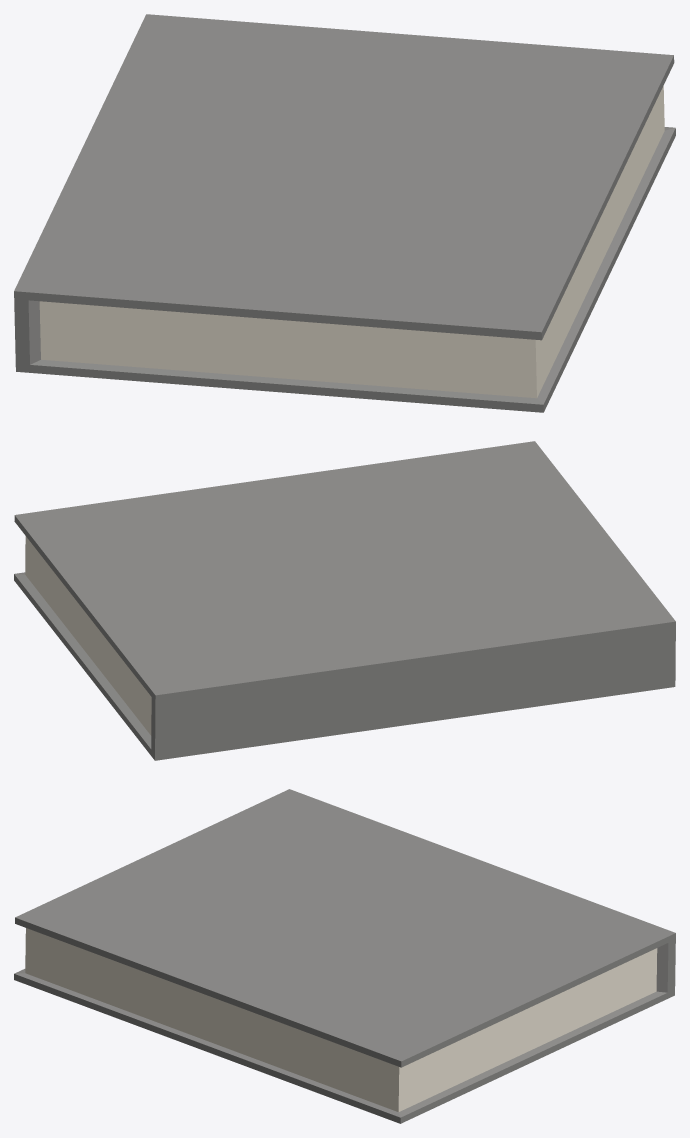
The model's file is Livingroom2_Book_3.fbx.
3 views of the same model, one above another, from view 1: azimuth 30°, elevation 25°; view 2: azimuth 150°, elevation 25°; view 3: azimuth 270°, elevation 25° (orthographic). The views are drawn at different scales.
Parts seen in each view (by area): view 1: Livingroom2_Book_3; view 2: Livingroom2_Book_3; view 3: Livingroom2_Book_3.
Boxes of the visible parts, <box> form: Livingroom2_Book_3: <box>14,14,675,412</box>; Livingroom2_Book_3: <box>14,441,675,760</box>; Livingroom2_Book_3: <box>14,789,675,1123</box>.
Size of the model in its own units: 30 by 30.4 by 3.3.
